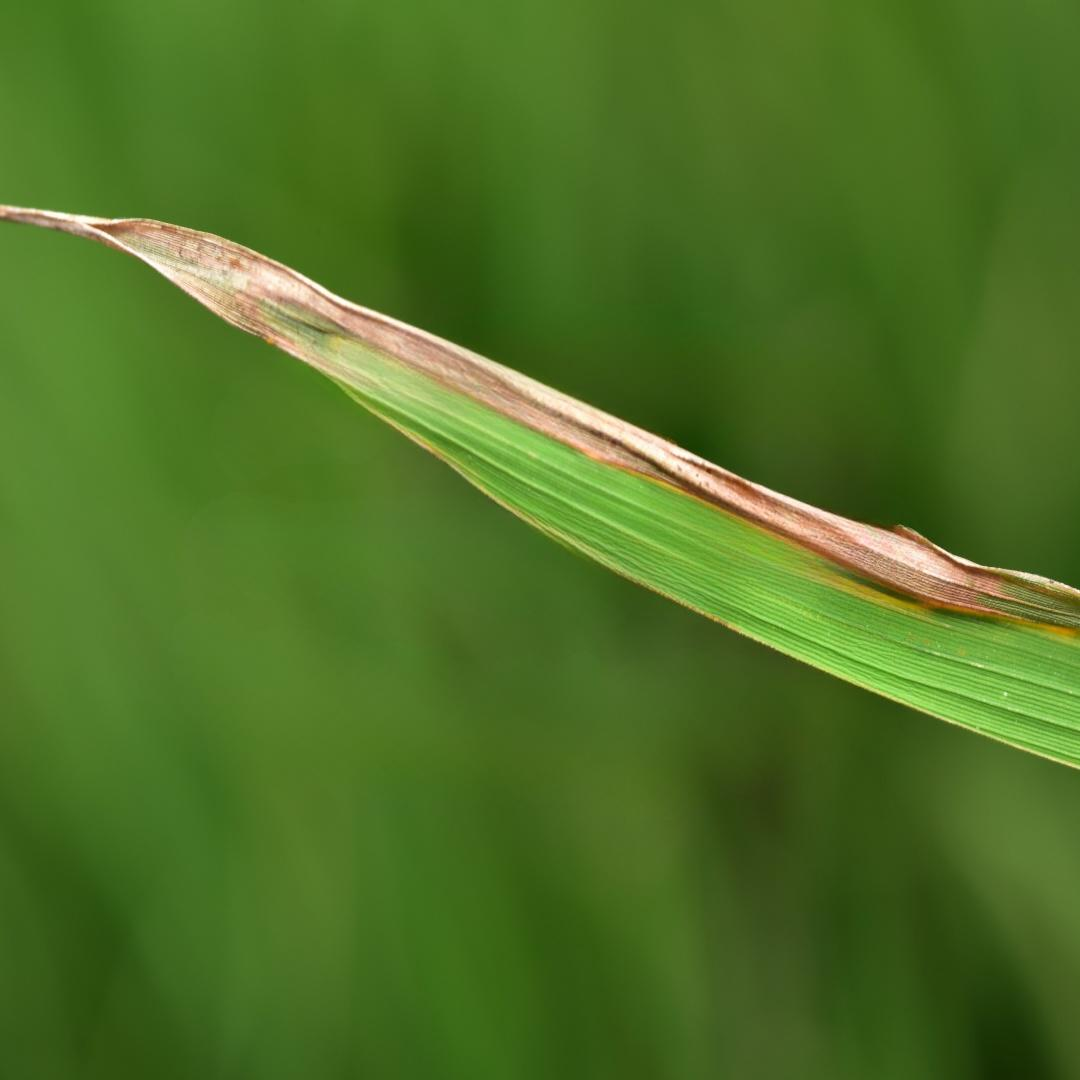BLB: (1, 207, 1078, 616)
LEAF: (0, 205, 1079, 766)
